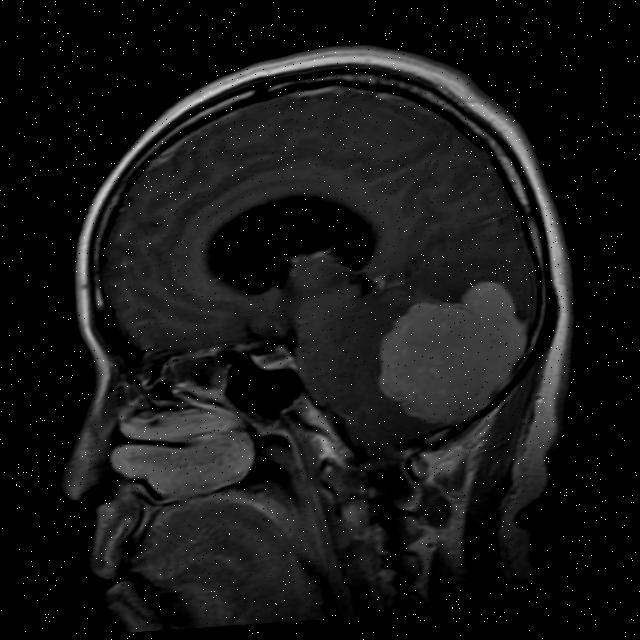Meningioma: (362, 271, 541, 440)
